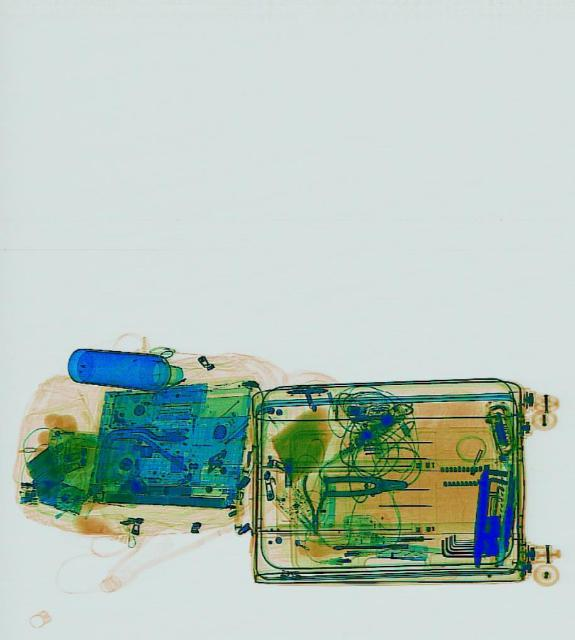Pliers: (322, 472, 407, 498), (299, 473, 329, 533)
